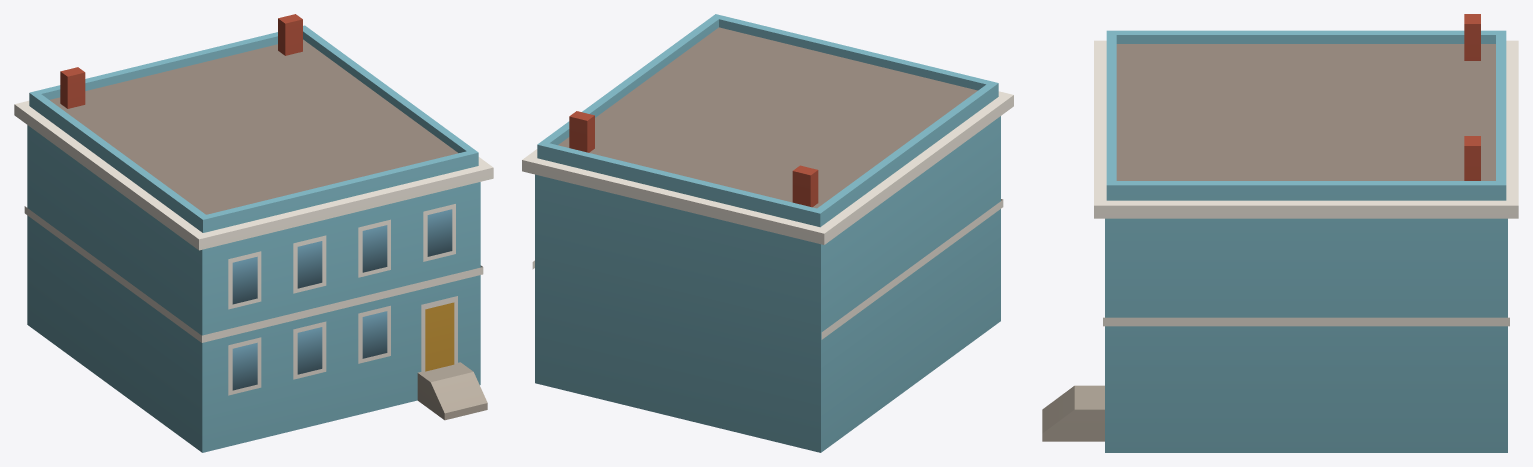
The model's file is beacon_ne6_far.glb.
The picture shows the model from 3 angles, left to right: view 1: azimuth 30°, elevation 25°; view 2: azimuth 150°, elevation 25°; view 3: azimuth 270°, elevation 25°; orthographic projection. The views are drawn at different scales.
Parts seen in each view (by area): view 1: beacon_ne6_far; view 2: beacon_ne6_far; view 3: beacon_ne6_far.
Boxes of the visible parts, x1,y1,x2,y2 form: beacon_ne6_far: (14, 14, 493, 452); beacon_ne6_far: (522, 14, 1013, 452); beacon_ne6_far: (1042, 14, 1518, 452).
Bounding box in the file's own units: 11.64 × 9.69 × 14.18.
Materials: 1 (1 with a texture image).
